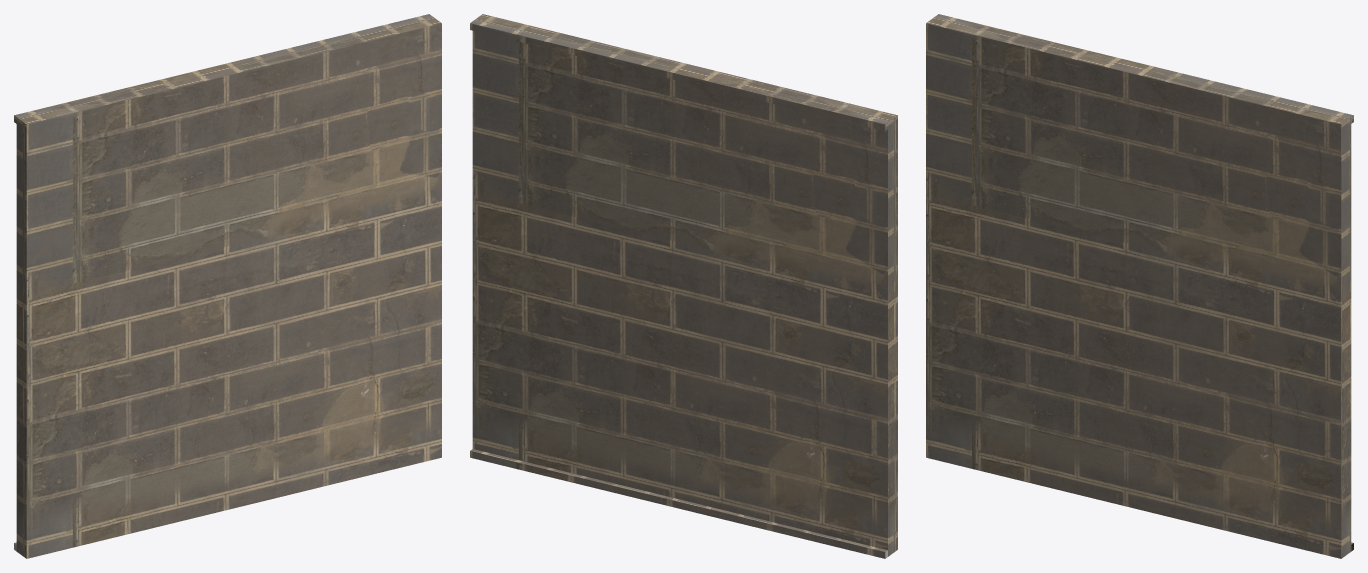
Rendered from Wall_dome_big.fbx.
3 views of the same model, side by side, from view 1: azimuth 30°, elevation 25°; view 2: azimuth 150°, elevation 25°; view 3: azimuth 330°, elevation 25° (orthographic).
Parts seen in each view (by area): view 1: Wall_dome_big; view 2: Wall_dome_big; view 3: Wall_dome_big.
Part boxes in pixels (x1,y1,x2,y2): Wall_dome_big: (14,14,441,558); Wall_dome_big: (470,14,897,558); Wall_dome_big: (926,14,1353,558).
Bounding box in the file's own units: 600 × 600 × 31.48.
